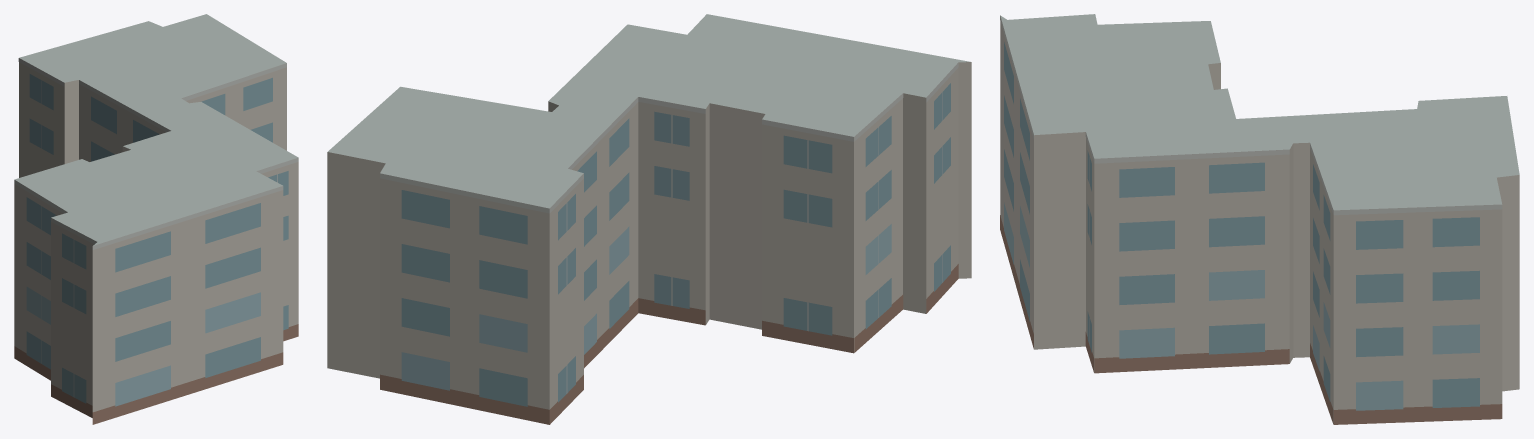
Rendered from survey-upis-32811552.glb.
3 renders of one model, left to right at view 1: azimuth 30°, elevation 25°; view 2: azimuth 150°, elevation 25°; view 3: azimuth 270°, elevation 25°, orthographic. The views are drawn at different scales.
Visible parts, largest first — view 1: survey-upis-32811552.tmp; view 2: survey-upis-32811552.tmp; view 3: survey-upis-32811552.tmp.
Boxes of the visible parts, box(x1,y1,x2,y2) form: survey-upis-32811552.tmp: box(14, 14, 298, 424); survey-upis-32811552.tmp: box(327, 14, 971, 424); survey-upis-32811552.tmp: box(1000, 14, 1519, 424).
Size of the model in its own units: 20.62 by 10.5 by 23.05.
